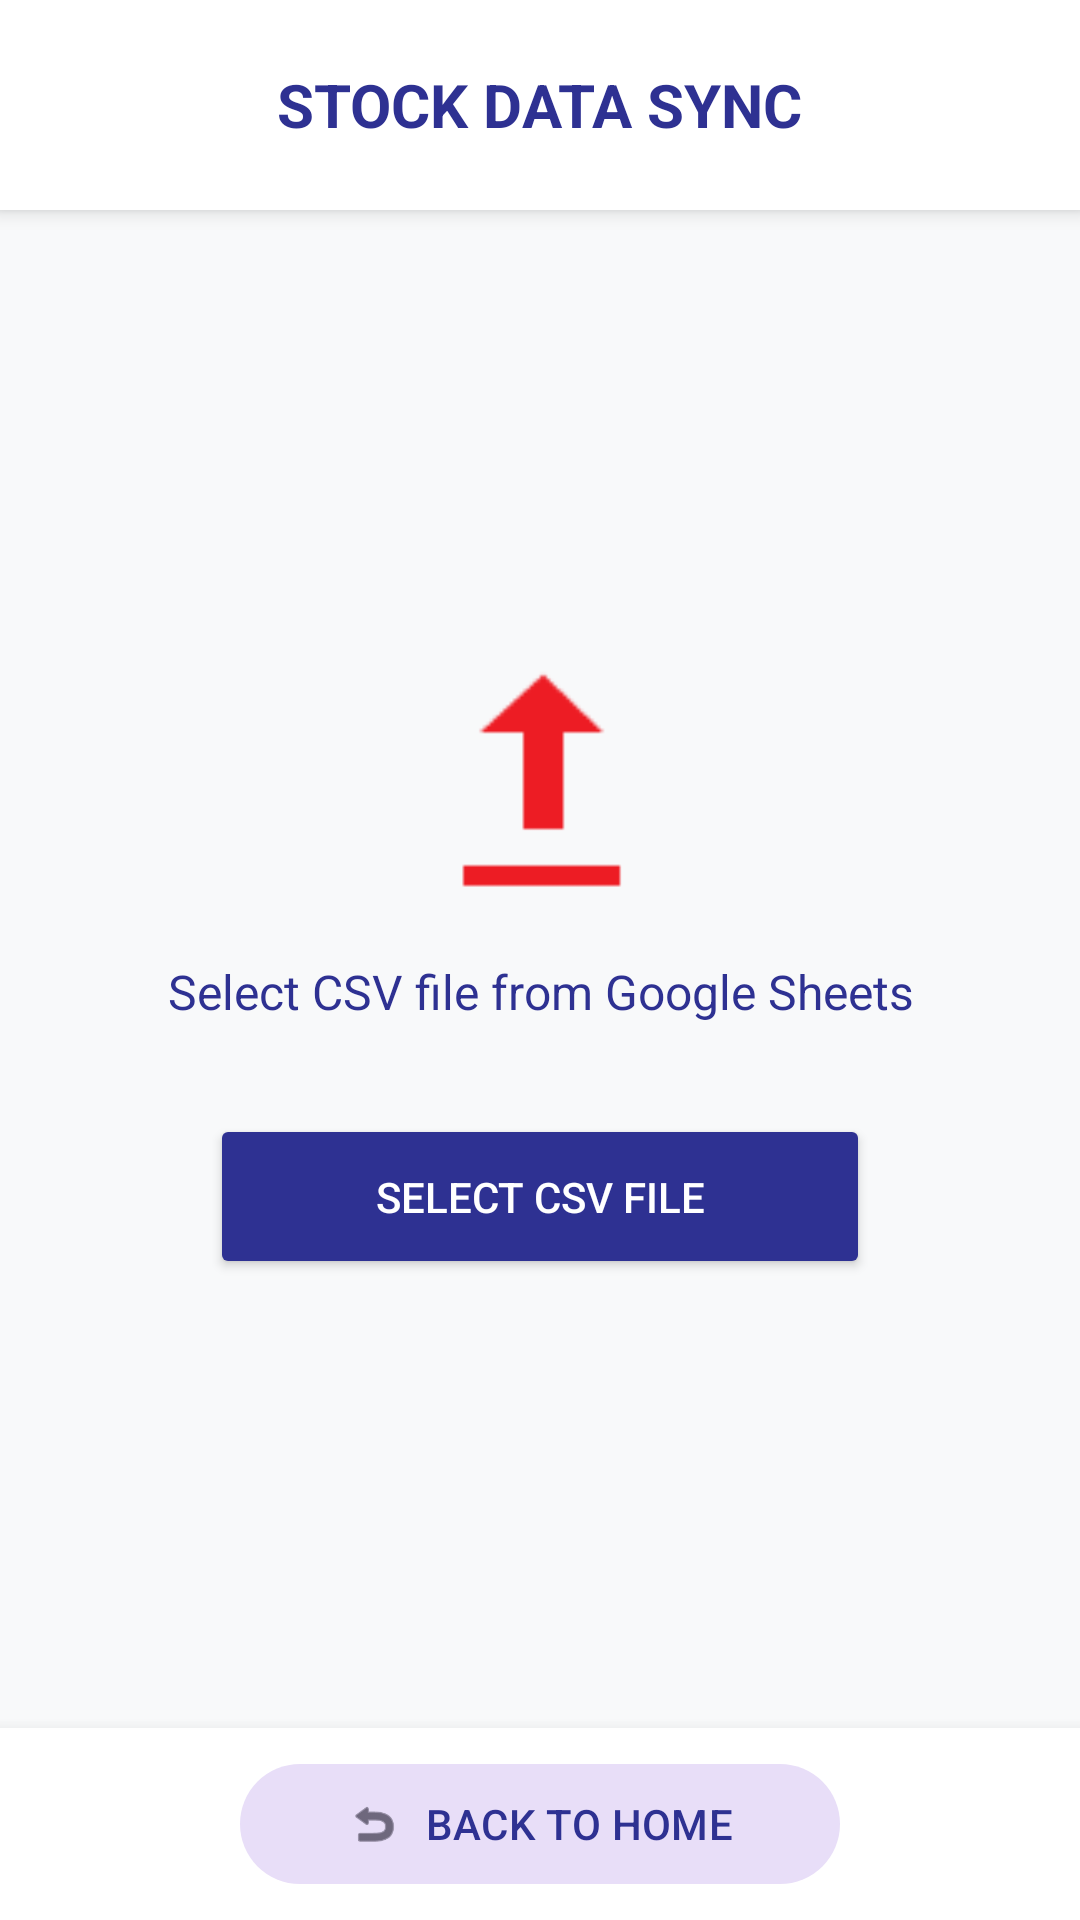

Point at icon controls on the screen. Image size 1080x1920, points as point (x, y).
upload: point (541, 780)
